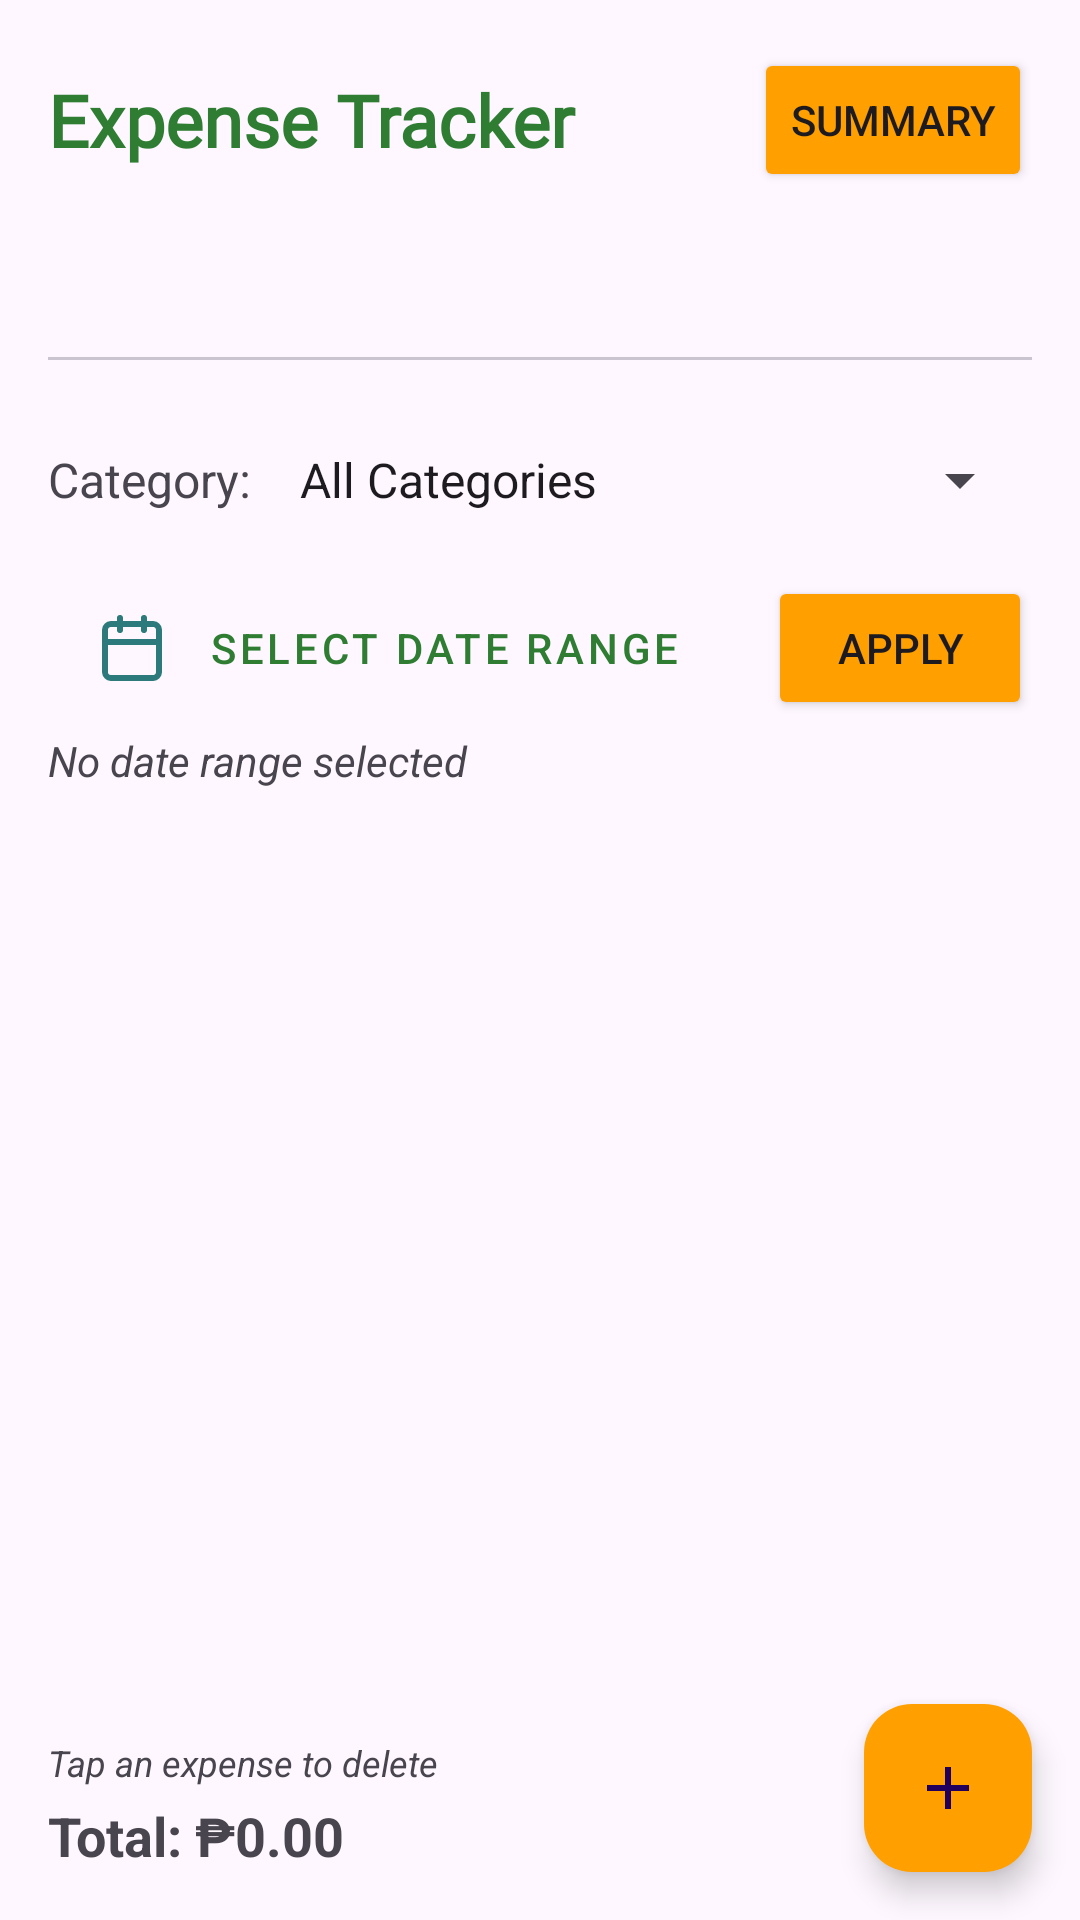

Named icons in this screenshot (1080px x 1920px) and their centers, (x=x, y=y):
Add Expense: (x=948, y=1788)
